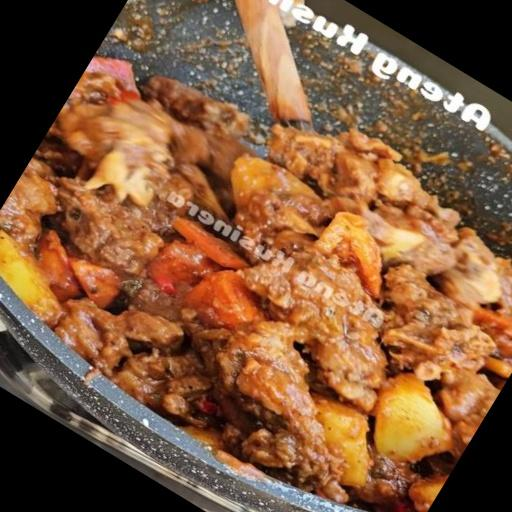pork caldereta: (0, 75, 511, 511)
